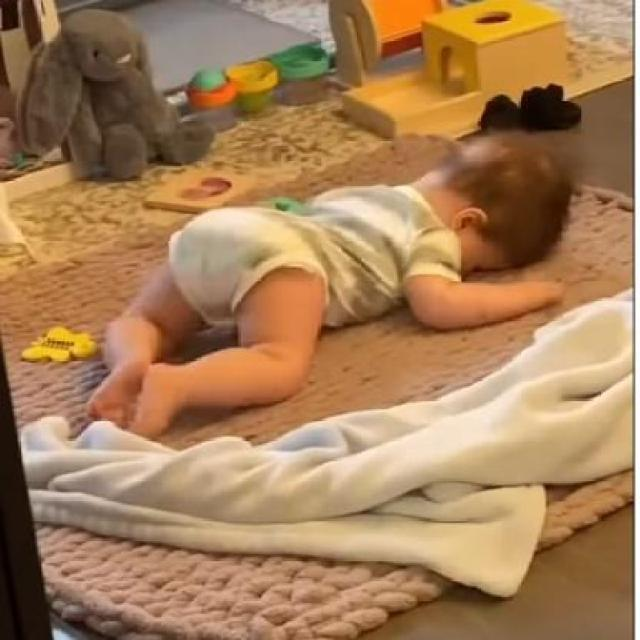baby: (82, 126, 572, 428)
